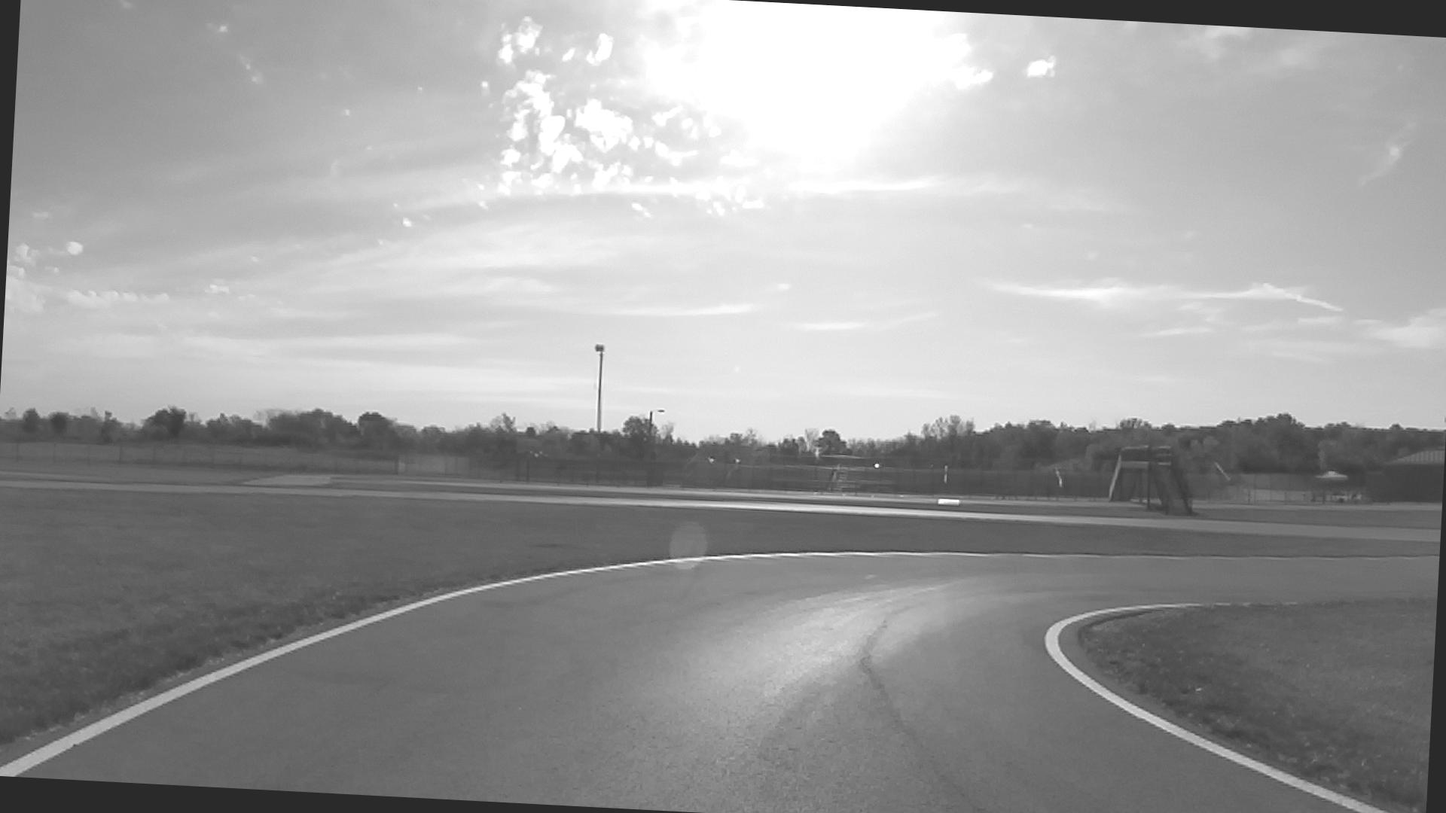white-line: (0, 557, 696, 777), (1046, 603, 1396, 813), (689, 551, 1002, 561)
